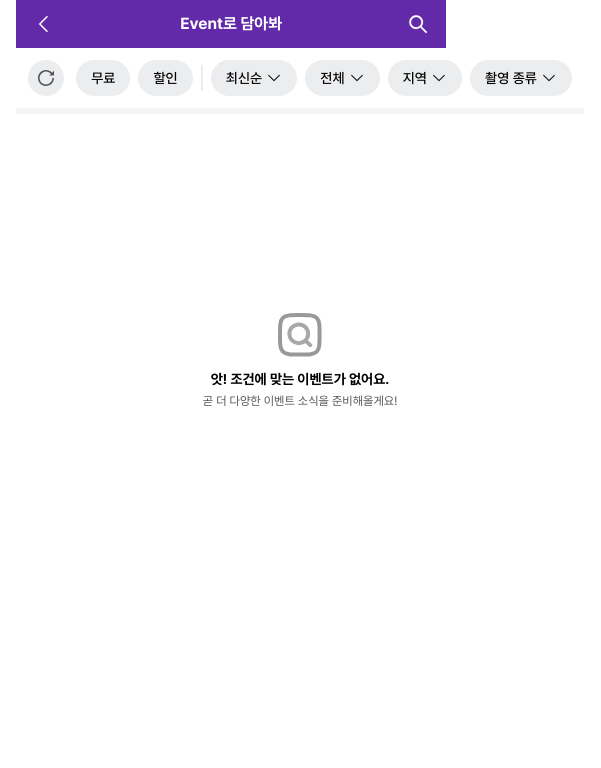
Test case: EventHome › 뒤로가기 클릭 시 홈으로 이동한다
Click the picture with alt text "<" at (44, 24), box 16,12 -> 72,36
(page scrolled)
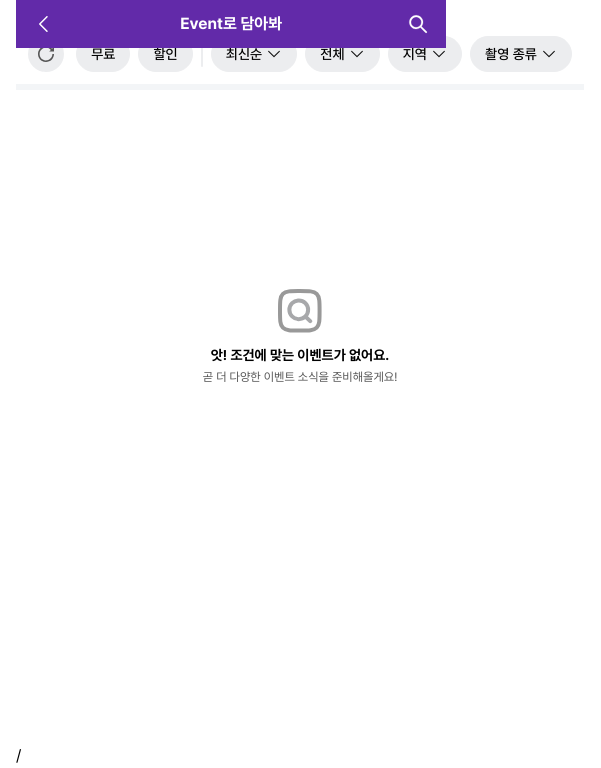
Check: the text with test id "path" reads "/", box 16,746 -> 21,765
